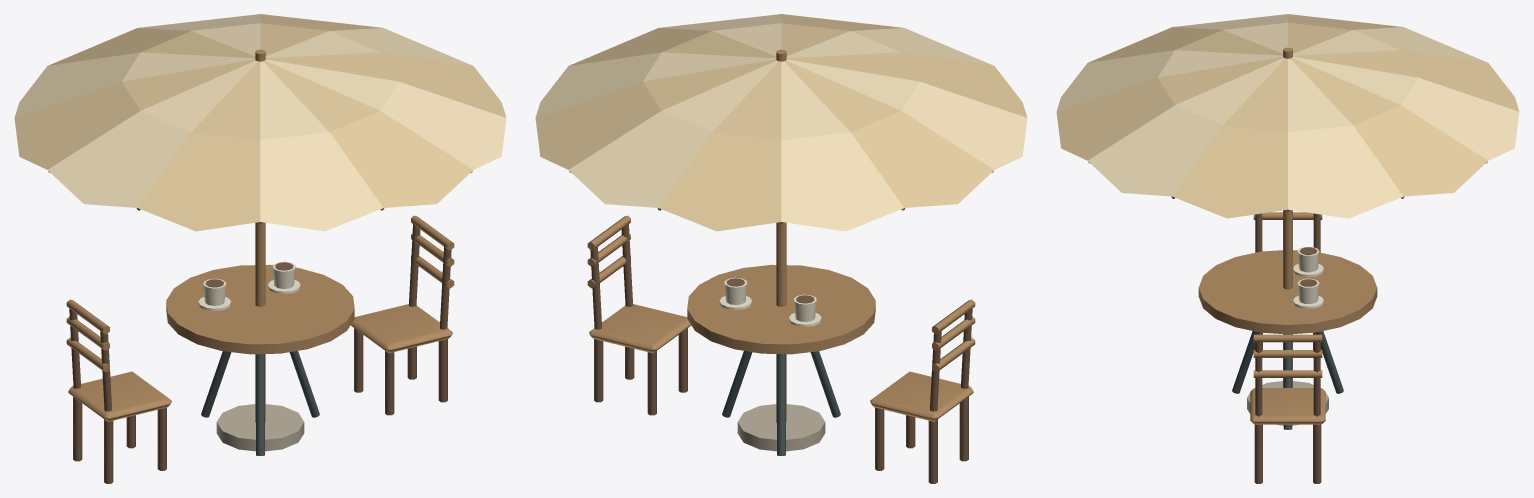
The model's file is planet_umbrella.glb.
3 renders of one model, left to right at view 1: azimuth 30°, elevation 25°; view 2: azimuth 150°, elevation 25°; view 3: azimuth 270°, elevation 25°, orthographic. The views are drawn at different scales.
Visible parts, largest first — view 1: Round cafe table, Scalloped canvas panel.003, Scalloped canvas panel.004, Scalloped canvas panel.002, Scalloped canvas panel.005, Scalloped canvas panel.001, Scalloped canvas panel.006, Scalloped canvas panel, Scalloped canvas panel.007, Scalloped canvas panel.008, Scalloped canvas panel.011, Pole foot (+18 smaller); view 2: Round cafe table, Scalloped canvas panel.007, Scalloped canvas panel.008, Scalloped canvas panel.006, Scalloped canvas panel.009, Scalloped canvas panel.005, Scalloped canvas panel.010, Scalloped canvas panel.004, Scalloped canvas panel.011, Scalloped canvas panel, Scalloped canvas panel.003, Pole foot (+18 smaller); view 3: Round cafe table, Scalloped canvas panel, Scalloped canvas panel.011, Scalloped canvas panel.001, Scalloped canvas panel.010, Scalloped canvas panel.002, Scalloped canvas panel.009, Scalloped canvas panel.003, Scalloped canvas panel.008, Scalloped canvas panel.004, Scalloped canvas panel.007, Chair seat.001 (+12 smaller).
Part boxes in pixels (x1=…): Round cafe table: x1=166, y1=264, x2=354, y2=354; Scalloped canvas panel.003: x1=260, y1=61, x2=382, y2=231; Scalloped canvas panel.004: x1=138, y1=61, x2=260, y2=231; Scalloped canvas panel.002: x1=263, y1=60, x2=472, y2=207; Scalloped canvas panel.005: x1=48, y1=60, x2=257, y2=207; Scalloped canvas panel.001: x1=265, y1=59, x2=506, y2=169; Scalloped canvas panel.006: x1=14, y1=59, x2=255, y2=169; Scalloped canvas panel: x1=265, y1=52, x2=506, y2=117; Scalloped canvas panel.007: x1=14, y1=52, x2=255, y2=117; Scalloped canvas panel.008: x1=48, y1=28, x2=255, y2=65; Scalloped canvas panel.011: x1=265, y1=28, x2=472, y2=65; Pole foot: x1=216, y1=404, x2=304, y2=451; Round cafe table: x1=687, y1=264, x2=875, y2=354; Scalloped canvas panel.007: x1=781, y1=61, x2=903, y2=231; Scalloped canvas panel.008: x1=659, y1=61, x2=781, y2=231; Scalloped canvas panel.006: x1=784, y1=60, x2=993, y2=207; Scalloped canvas panel.009: x1=569, y1=60, x2=778, y2=207; Scalloped canvas panel.005: x1=786, y1=59, x2=1027, y2=169; Scalloped canvas panel.010: x1=535, y1=59, x2=776, y2=169; Scalloped canvas panel.004: x1=786, y1=52, x2=1027, y2=117; Scalloped canvas panel.011: x1=535, y1=52, x2=776, y2=117; Scalloped canvas panel: x1=569, y1=28, x2=776, y2=65; Scalloped canvas panel.003: x1=786, y1=28, x2=993, y2=65; Pole foot: x1=737, y1=404, x2=825, y2=451; Round cafe table: x1=1198, y1=250, x2=1377, y2=334; Scalloped canvas panel: x1=1172, y1=58, x2=1287, y2=218; Scalloped canvas panel.011: x1=1288, y1=58, x2=1403, y2=218; Scalloped canvas panel.001: x1=1088, y1=58, x2=1285, y2=196; Scalloped canvas panel.010: x1=1290, y1=58, x2=1487, y2=196; Scalloped canvas panel.002: x1=1056, y1=56, x2=1283, y2=160; Scalloped canvas panel.009: x1=1292, y1=56, x2=1519, y2=160; Scalloped canvas panel.003: x1=1056, y1=50, x2=1282, y2=111; Scalloped canvas panel.008: x1=1293, y1=50, x2=1519, y2=111; Scalloped canvas panel.004: x1=1088, y1=27, x2=1282, y2=62; Scalloped canvas panel.007: x1=1293, y1=27, x2=1487, y2=62; Chair seat.001: x1=1250, y1=388, x2=1325, y2=424.
Size of the model in its own units: 2.7 by 2.31 by 2.7.
